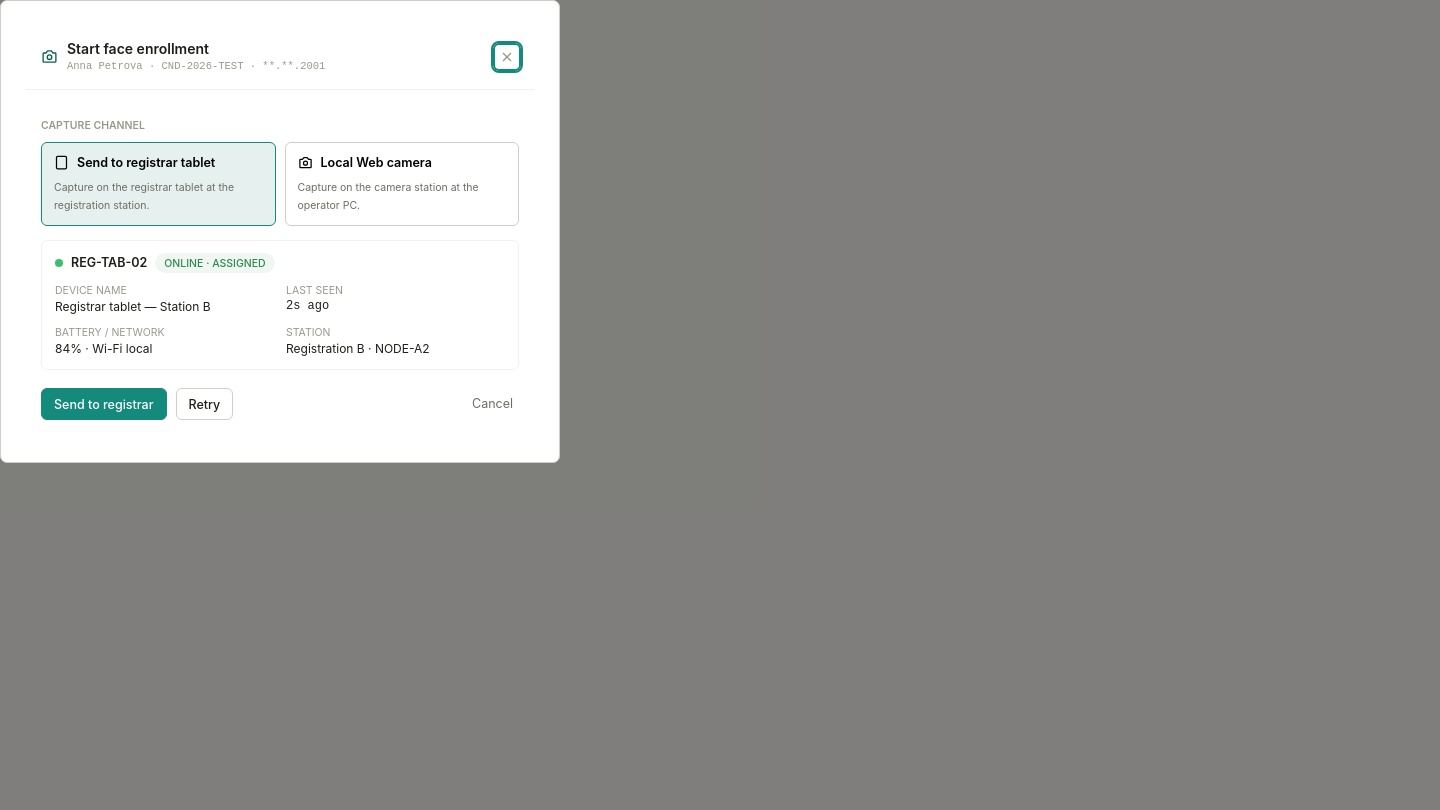
Test case: StartEnrollmentDialog › disables Use local camera when no camera detected (with visible reason in title)
Step 1. Click the tab "Local Web camera" → (402, 184), box [284,142,519,226]
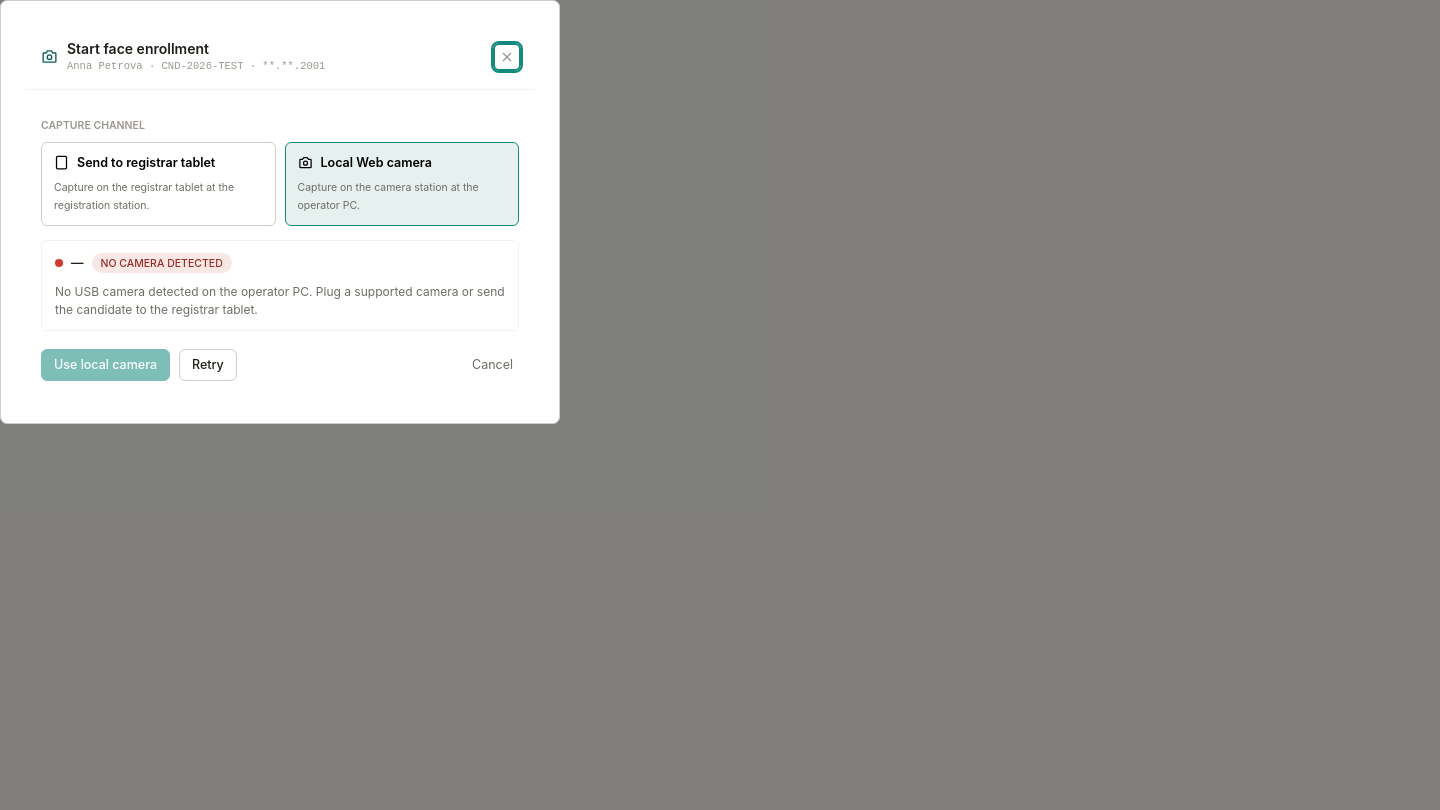
Expected: the button "Use local camera" is disabled, [41,349,170,381]
Expected: the text "No camera detected" is shown, [92,253,232,273]
